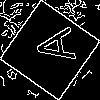A: (25, 25, 76, 67)
